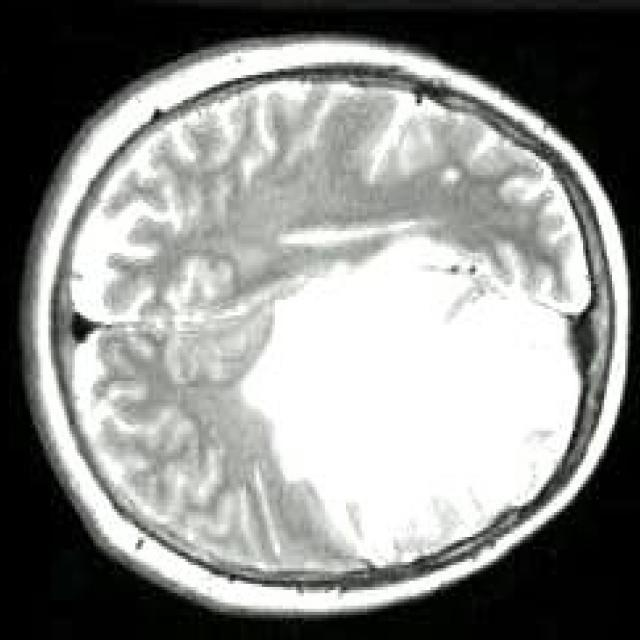tumor: (240, 240, 582, 568)
